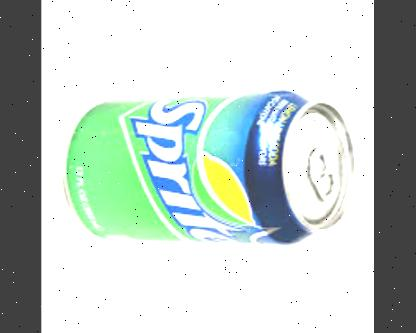Can: (67, 90, 356, 244)
